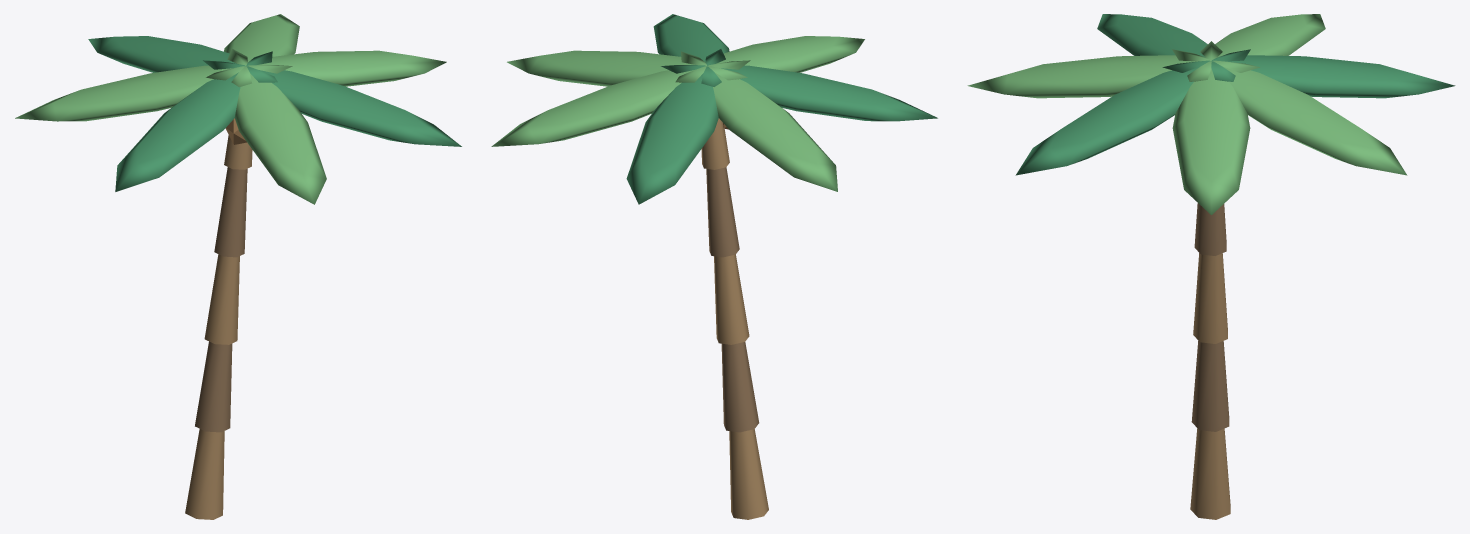
File: ocean-scenery-33.glb
3 renders of one model, left to right at view 1: azimuth 30°, elevation 25°; view 2: azimuth 150°, elevation 25°; view 3: azimuth 270°, elevation 25°, orthographic. The views are drawn at different scales.
Parts seen in each view (by area): view 1: Pearlrest island palm; view 2: Pearlrest island palm; view 3: Pearlrest island palm.
Part boxes in pixels (box(x1,y1,x2,y2)): Pearlrest island palm: box(15, 14, 461, 519); Pearlrest island palm: box(491, 14, 937, 519); Pearlrest island palm: box(967, 14, 1455, 519).
Bounding box in the file's own units: 4.05 × 4.44 × 4.16.
